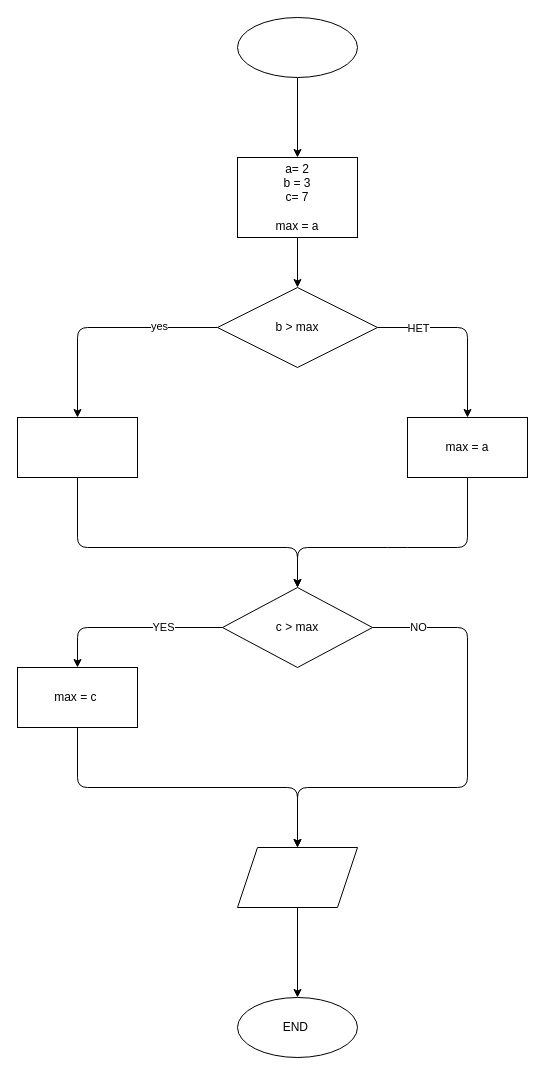
This 545x1075 diagram has some shape labels left out. The centre of each missing label's shape, as x and y in pixels:
"max" goes at point (297, 877).
"max = b" goes at point (77, 447).
"Start" goes at point (297, 47).
